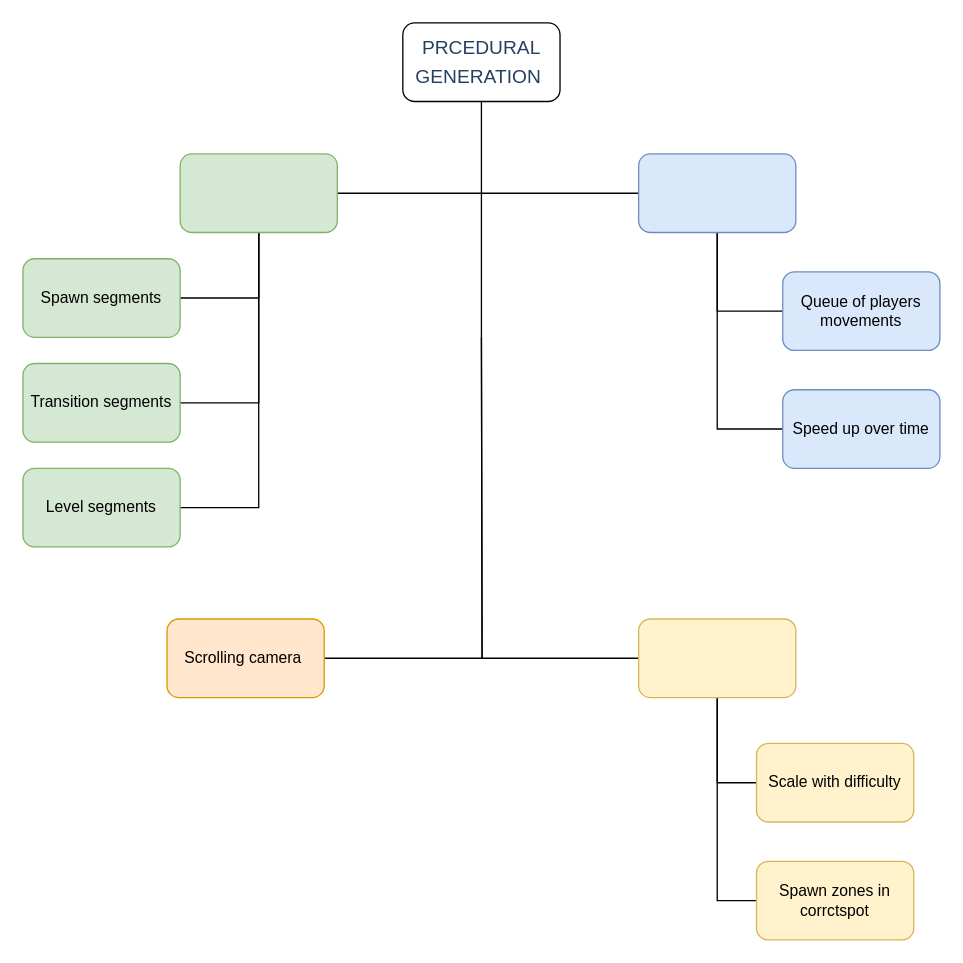
This 963x963 diagram has some shape labels left out. Here are the shapes that lost their labels. From the top down, the centre of each, then its label:
At pixel 258 193: "Map design".
At pixel 716 193: "Monster chacing player".
At pixel 716 658: "generating zones".
